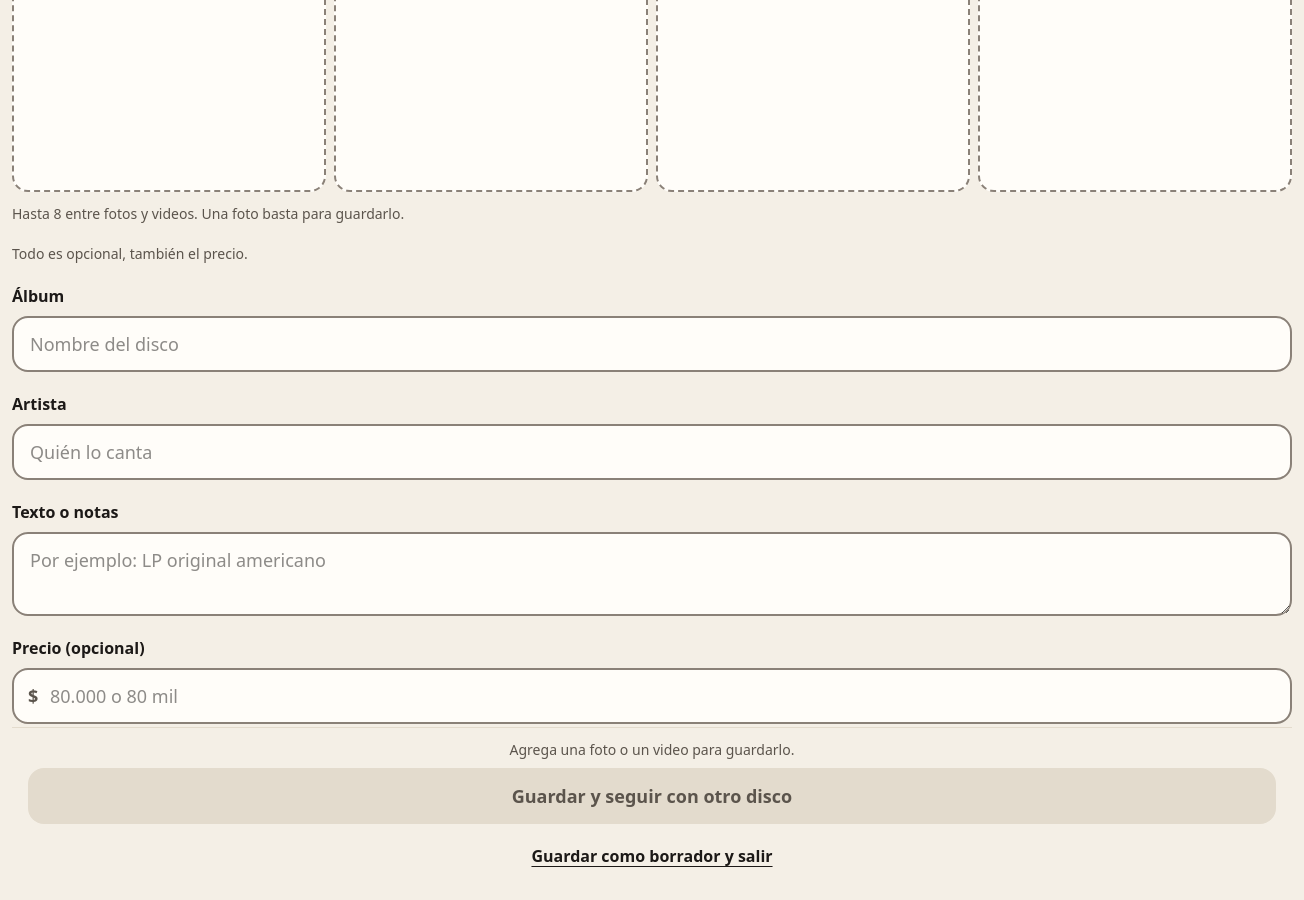
Test: NewRecordForm › the price field › groups the digits as they are typed
(page scrolled)
Type "1500" into the field labelled "Precio (opcional)" at (652, 696), box [12, 668, 1292, 724]
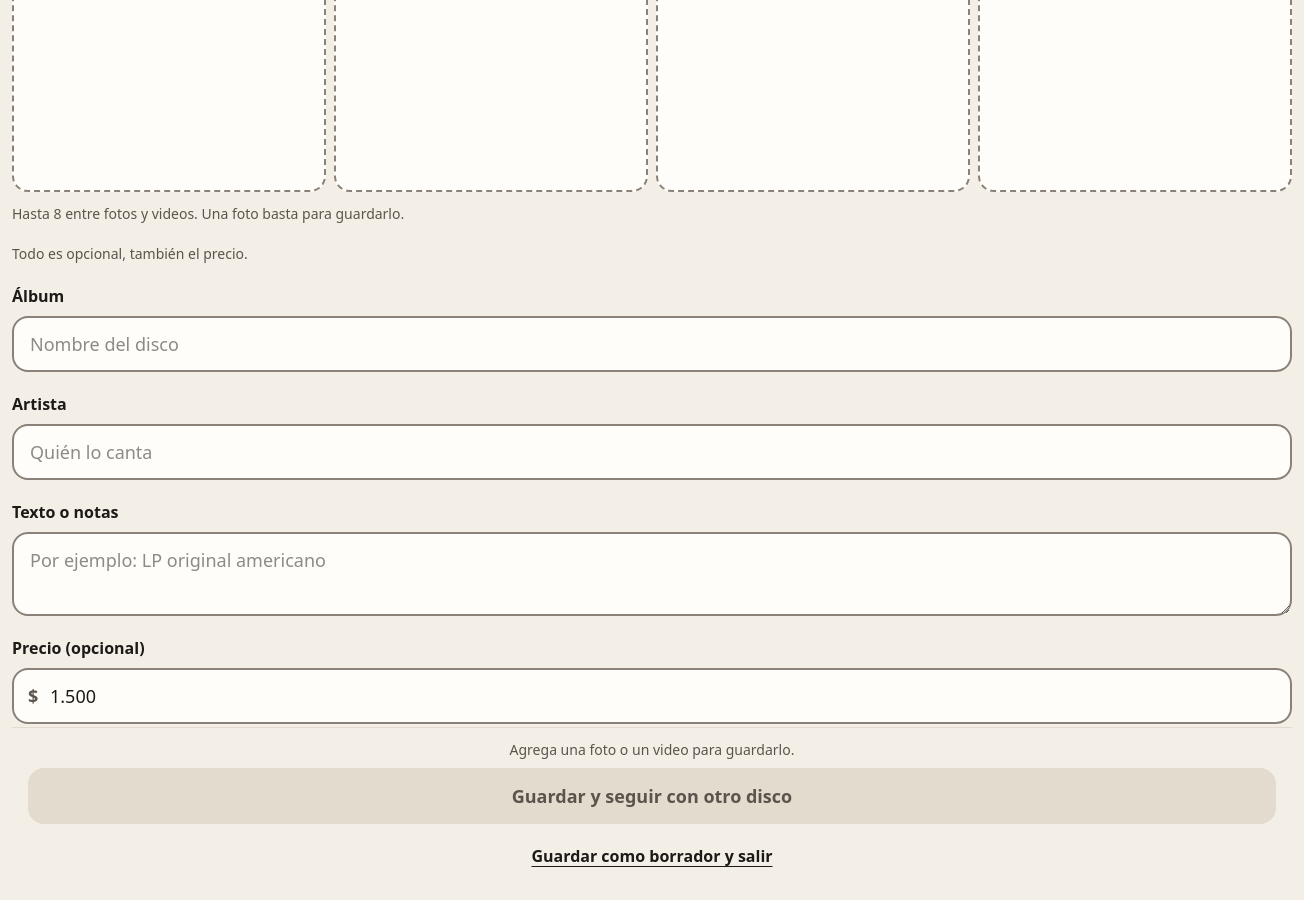
expect the field labelled "Precio (opcional)" holds "1.500": met
Replace the text in the field labelled "Precio (opcional)" with "1.5000" at (652, 696), box [12, 668, 1292, 724]
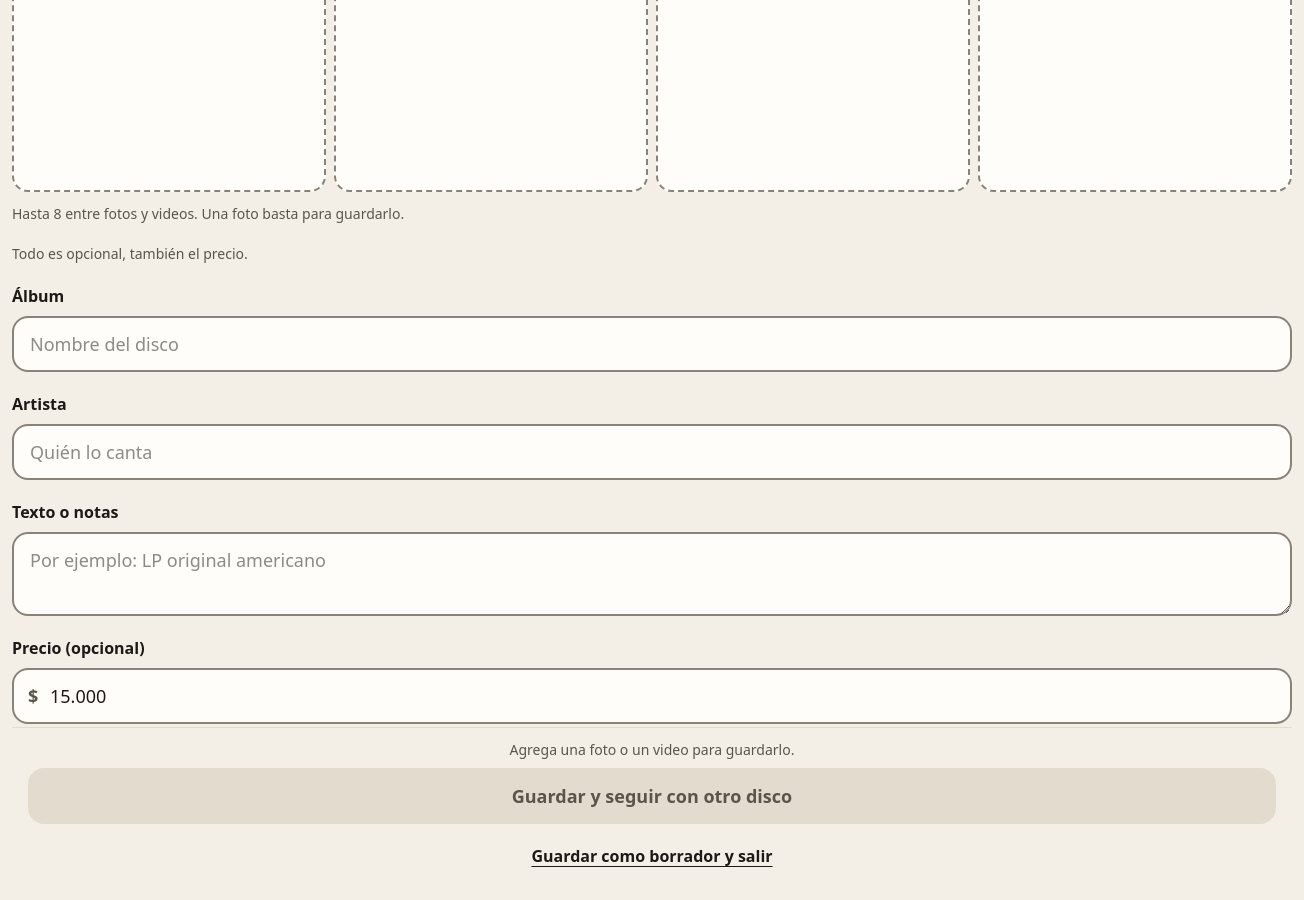
expect the field labelled "Precio (opcional)" holds "15.000": met, box [12, 668, 1292, 724]
